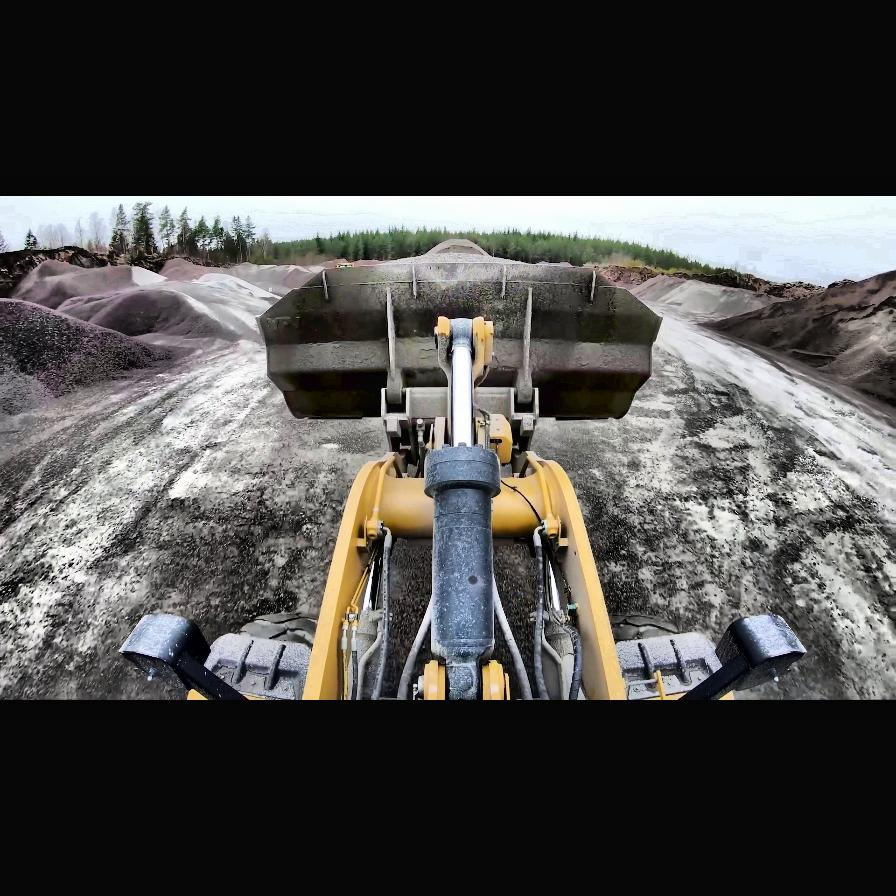anchor: (435, 316, 494, 384)
pile of gravel: (696, 262, 894, 434), (0, 298, 182, 412), (54, 284, 241, 342), (624, 273, 790, 323), (8, 260, 168, 310), (622, 272, 688, 304)
